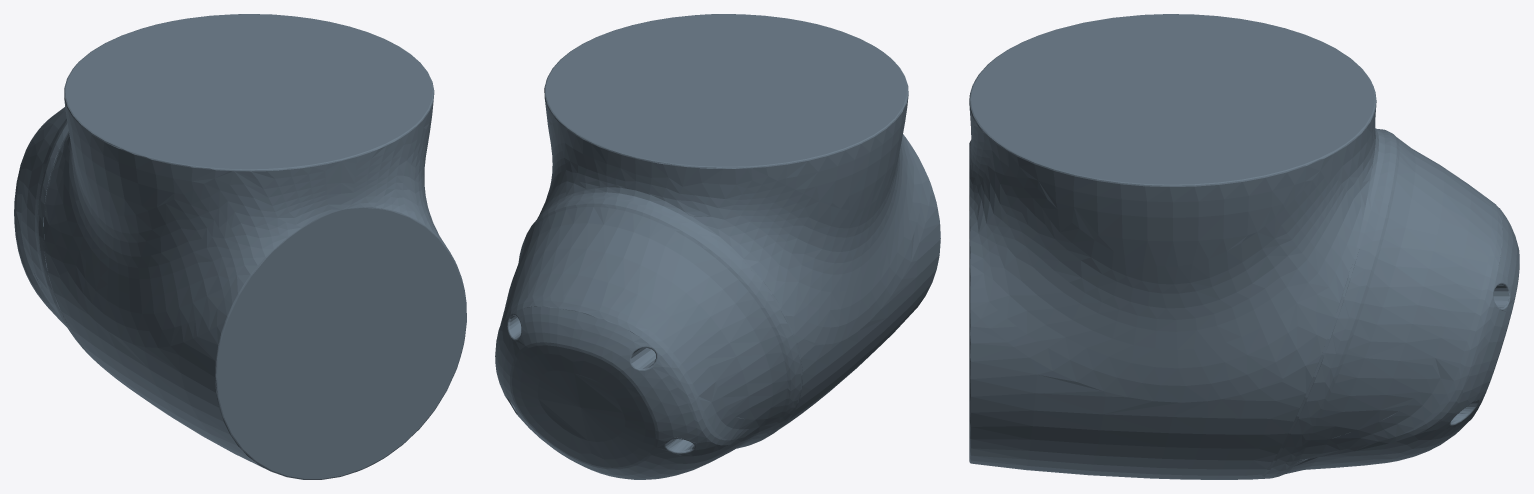
The picture shows the model from 3 angles, left to right: view 1: azimuth 30°, elevation 25°; view 2: azimuth 150°, elevation 25°; view 3: azimuth 270°, elevation 25°; orthographic projection. The views are drawn at different scales.
Parts seen in each view (by area): view 1: A0912_3_2; view 2: A0912_3_2; view 3: A0912_3_2.
Boxes of the visible parts, bbox=[...] form: A0912_3_2: bbox=[14, 14, 466, 479]; A0912_3_2: bbox=[495, 14, 940, 479]; A0912_3_2: bbox=[969, 14, 1519, 479].
Bounding box in the file's own units: 116 × 156 × 114.
